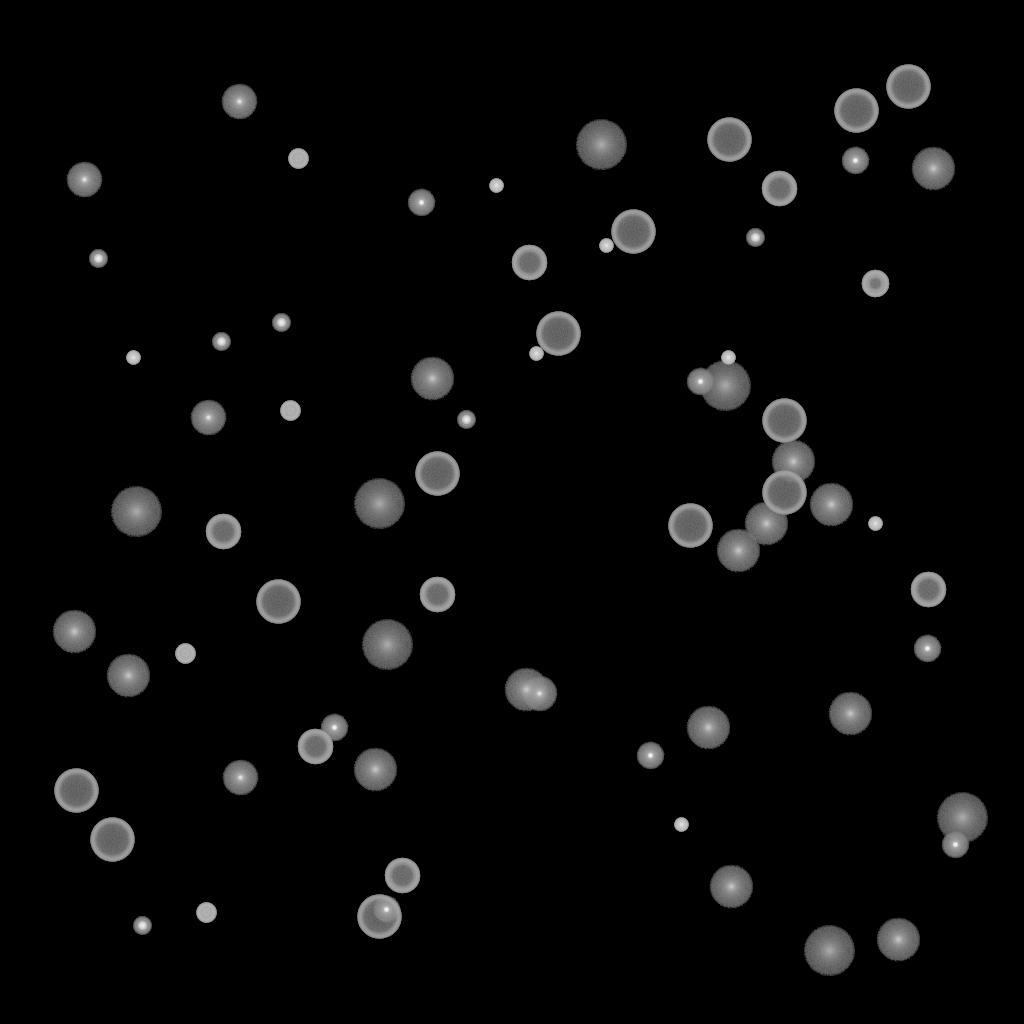depth:-10: (913, 635, 941, 663), (320, 714, 348, 742), (407, 189, 435, 217), (686, 368, 714, 396), (636, 742, 664, 770), (841, 147, 869, 175), (941, 831, 969, 859), (372, 896, 400, 924)
depth:-20: (133, 917, 151, 935), (212, 333, 230, 351), (272, 314, 290, 332), (746, 229, 764, 247), (457, 411, 475, 429), (89, 250, 107, 268)
depth:-30: (868, 517, 882, 531), (529, 347, 543, 361), (721, 351, 735, 365), (599, 239, 613, 253), (489, 179, 503, 193), (126, 351, 140, 365), (674, 818, 688, 832)
depth:-40: (280, 401, 300, 421), (175, 644, 195, 664), (196, 903, 216, 923), (288, 149, 308, 169)
depth:-50: (861, 270, 889, 298)
depth:-60: (910, 572, 946, 608), (384, 858, 420, 894), (511, 245, 547, 281), (761, 171, 797, 207), (205, 514, 241, 550), (419, 577, 455, 613), (297, 729, 333, 765)
depth:-70: (668, 504, 712, 548), (536, 312, 580, 356), (54, 769, 98, 813), (707, 118, 751, 162), (357, 895, 401, 939), (256, 580, 300, 624), (415, 452, 459, 496), (762, 399, 806, 443), (611, 210, 655, 254), (834, 89, 878, 133), (886, 65, 930, 109), (90, 818, 134, 862), (762, 471, 806, 515)
depth:0: (521, 676, 557, 712), (66, 162, 102, 198), (190, 400, 226, 436), (221, 84, 257, 120), (222, 760, 258, 796)
depth:10: (686, 706, 730, 750), (709, 865, 753, 909), (744, 502, 788, 546), (106, 654, 150, 698), (828, 692, 872, 736), (771, 440, 815, 484), (410, 357, 454, 401), (911, 147, 955, 191), (716, 529, 760, 573), (809, 483, 853, 527), (876, 918, 920, 962), (353, 748, 397, 792), (504, 668, 548, 712), (52, 610, 96, 654)
depth:20: (699, 361, 751, 411), (110, 487, 162, 537), (936, 793, 988, 843), (353, 479, 405, 529), (575, 120, 627, 170), (803, 926, 855, 976), (361, 620, 413, 670)
